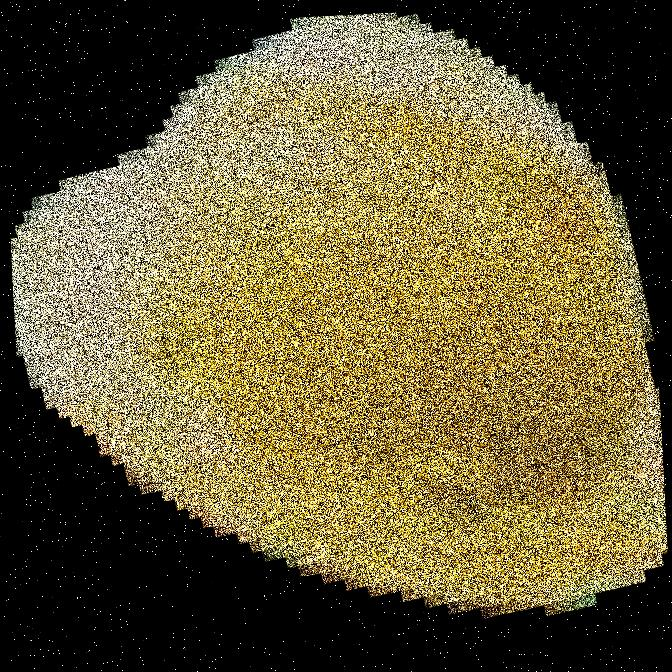Capacete: (229, 0, 559, 671)
